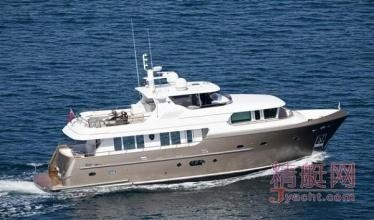yacht: (31, 60, 345, 192)
